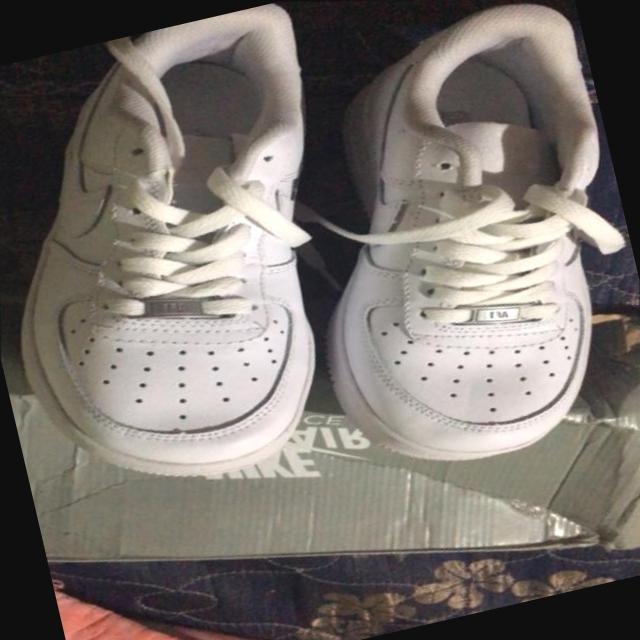nike_fake_airforce: (0, 0, 433, 542), (227, 0, 640, 531)
